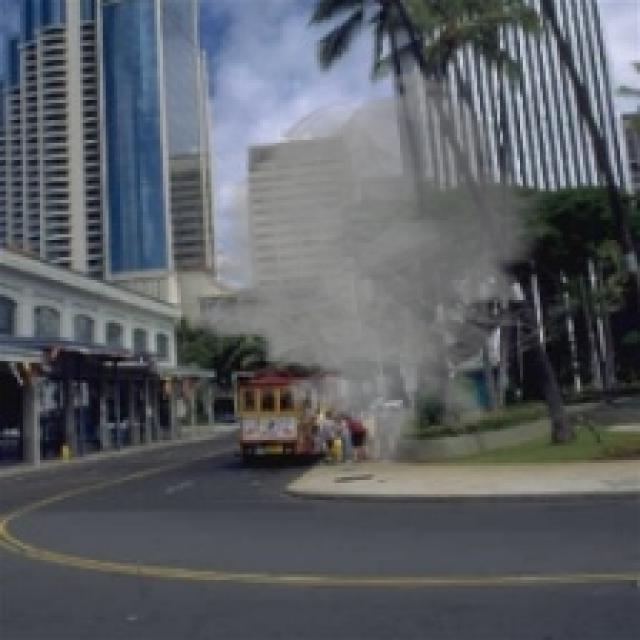Smoke: (168, 66, 583, 472)
